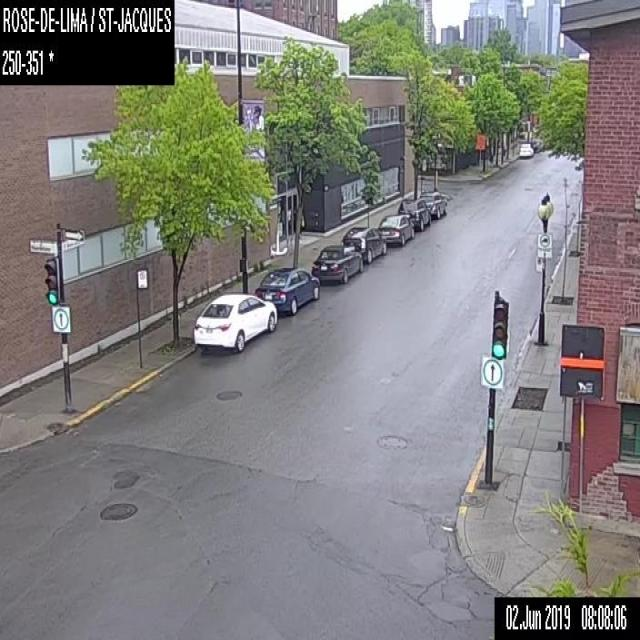construction: (474, 131, 484, 172)
vehicle: (192, 292, 276, 354), (256, 266, 318, 314), (312, 244, 362, 283), (343, 225, 386, 261), (379, 211, 415, 246), (398, 198, 431, 227), (420, 192, 448, 215), (518, 142, 533, 158)
